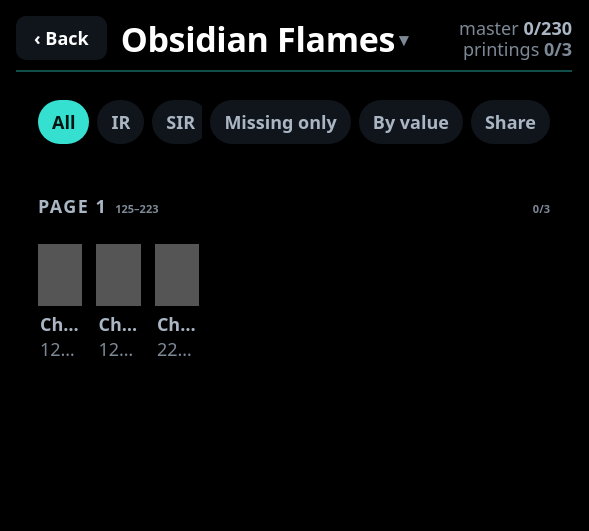
Test: WebSetCardsScreen sharing › names a missing token instead of blaming the server
Click the button "Share": click(510, 122) left=471, top=100, right=550, bottom=144
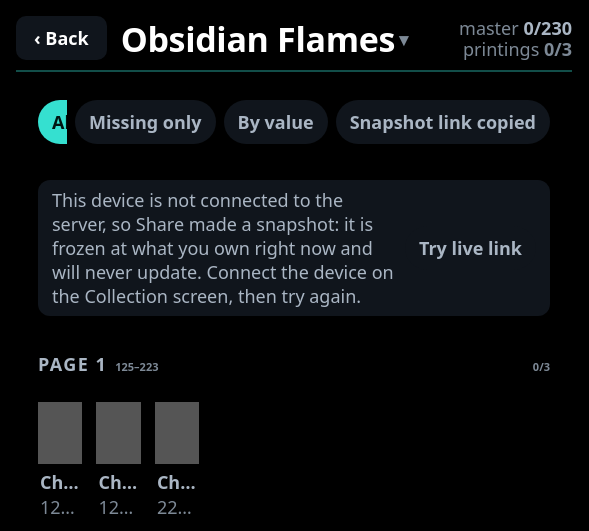
Check: the message shows "not connected to the server", box left=52, top=188, right=394, bottom=308
Check: the message shows "Collection screen", box left=52, top=188, right=394, bottom=308
